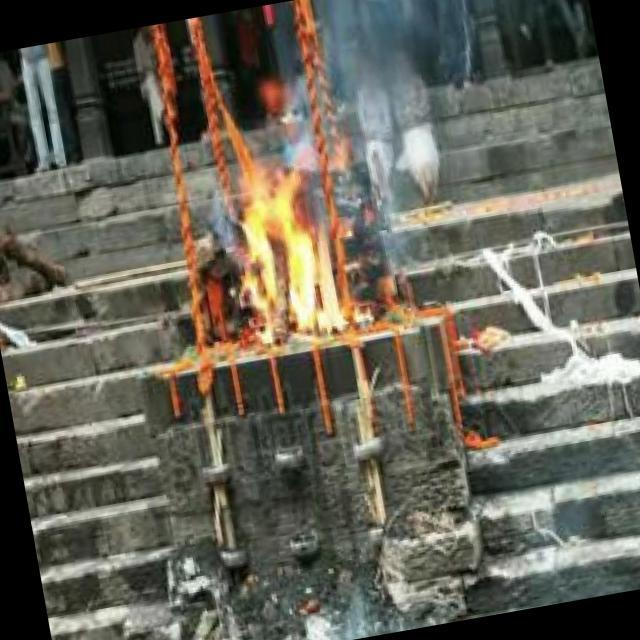Fire: (227, 167, 347, 348)
